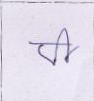i_matra: (59, 27, 74, 61)
